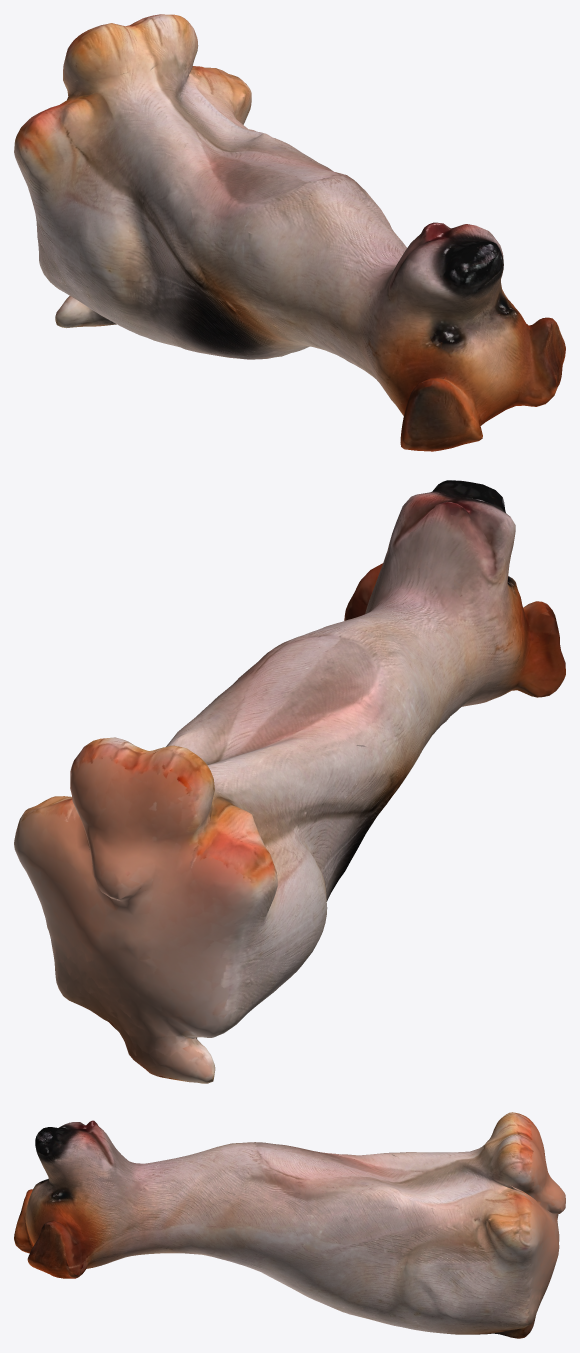
Rendered from Dog.obj.
3 views of the same model, one above another, from view 1: azimuth 30°, elevation 25°; view 2: azimuth 150°, elevation 25°; view 3: azimuth 270°, elevation 25° (orthographic). The views are drawn at different scales.
Visible parts, largest first — view 1: Object__0; view 2: Object__0; view 3: Object__0.
Boxes of the visible parts, left/top/right/bottom form: Object__0: left=14, top=14, right=565, bottom=451; Object__0: left=14, top=480, right=565, bottom=1083; Object__0: left=14, top=1112, right=565, bottom=1338.
Size of the model in its own units: 101 by 125 by 278.
Materials: 1 (1 with a texture image).
